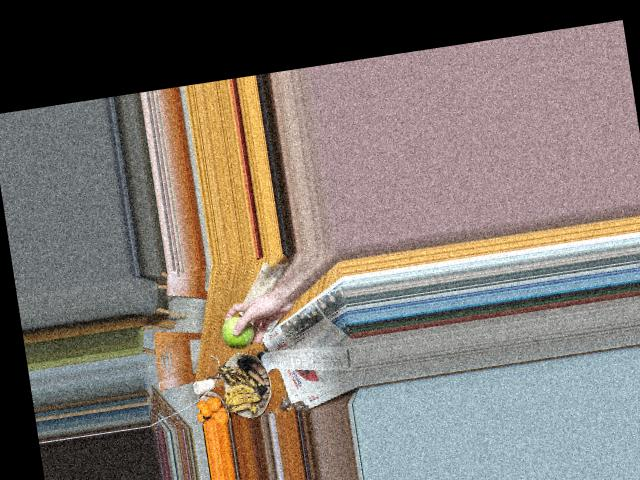apple: (216, 314, 259, 351)
